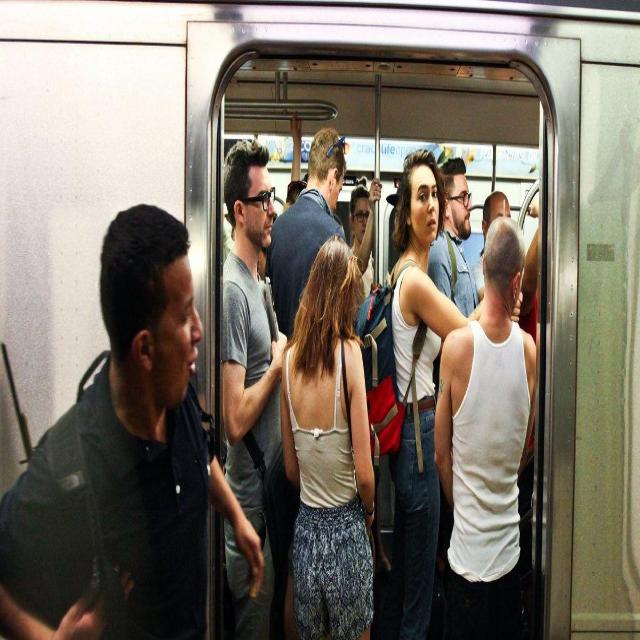body: (0, 202, 266, 640), (390, 147, 484, 640), (433, 215, 538, 640), (277, 228, 380, 639), (222, 136, 291, 640), (263, 124, 350, 350), (257, 172, 406, 284), (424, 154, 482, 352), (516, 212, 541, 639), (470, 191, 524, 324), (348, 174, 384, 304)
